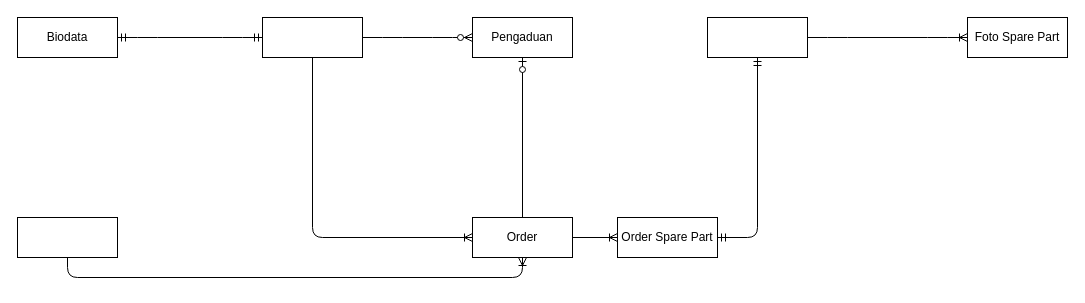
Image size: 1085x303. Some labels were removed from this diagram. Here are the shapes that lost their labels. From the top down, the centre of each, then its label:
At point (312, 37): "Users".
At point (757, 37): "Spare Part".
At point (67, 237): "Jasa".
